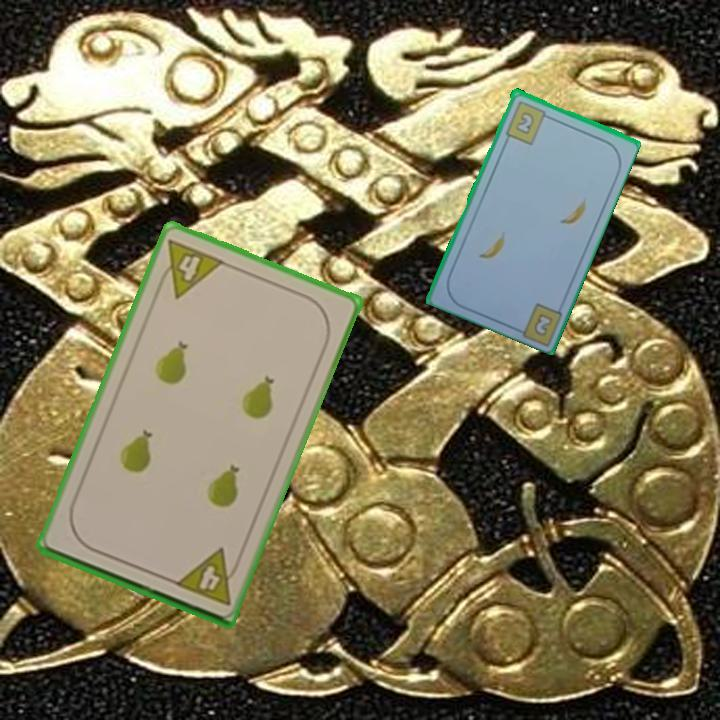2b: (502, 97, 554, 147), (530, 309, 555, 339)
4p: (152, 235, 227, 301), (170, 544, 244, 608)
